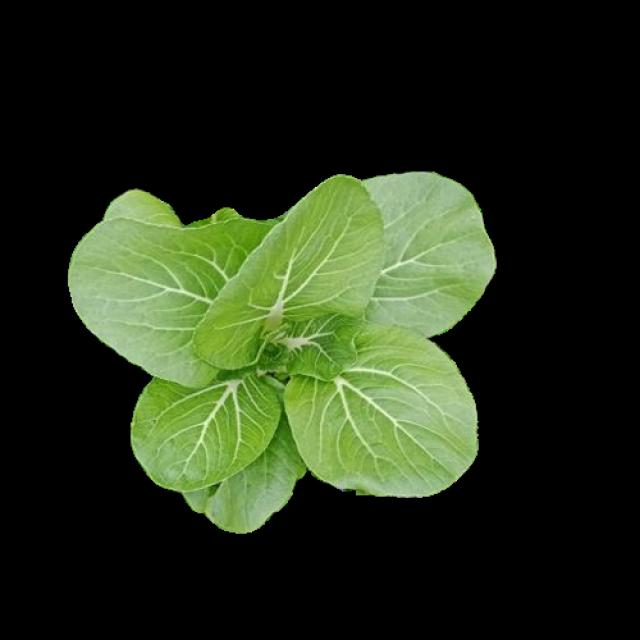healthy: (65, 170, 494, 532)
mature: (68, 173, 496, 535)
